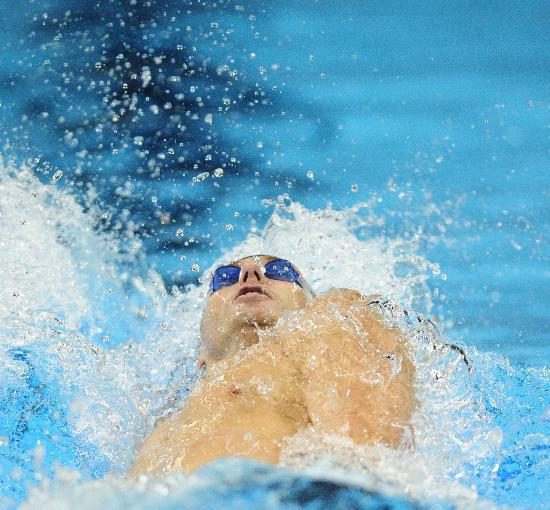human: (122, 252, 425, 499)
